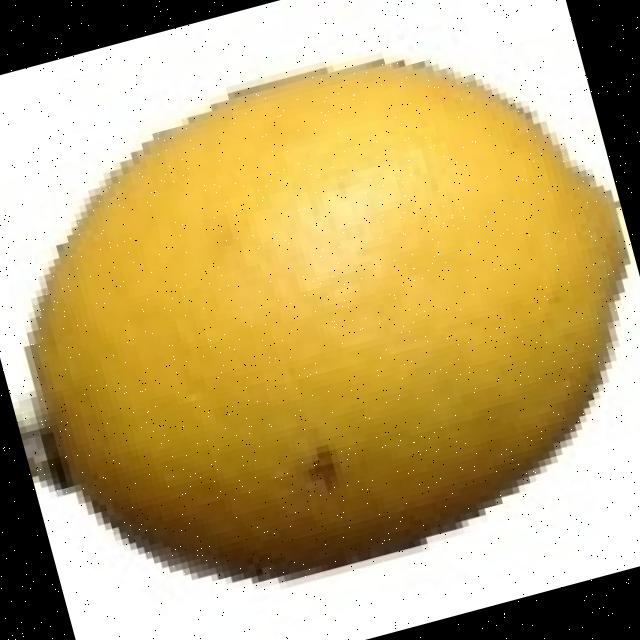lemon: (30, 61, 628, 578)
